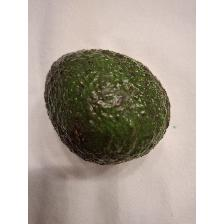Avocado: (42, 46, 174, 168)
